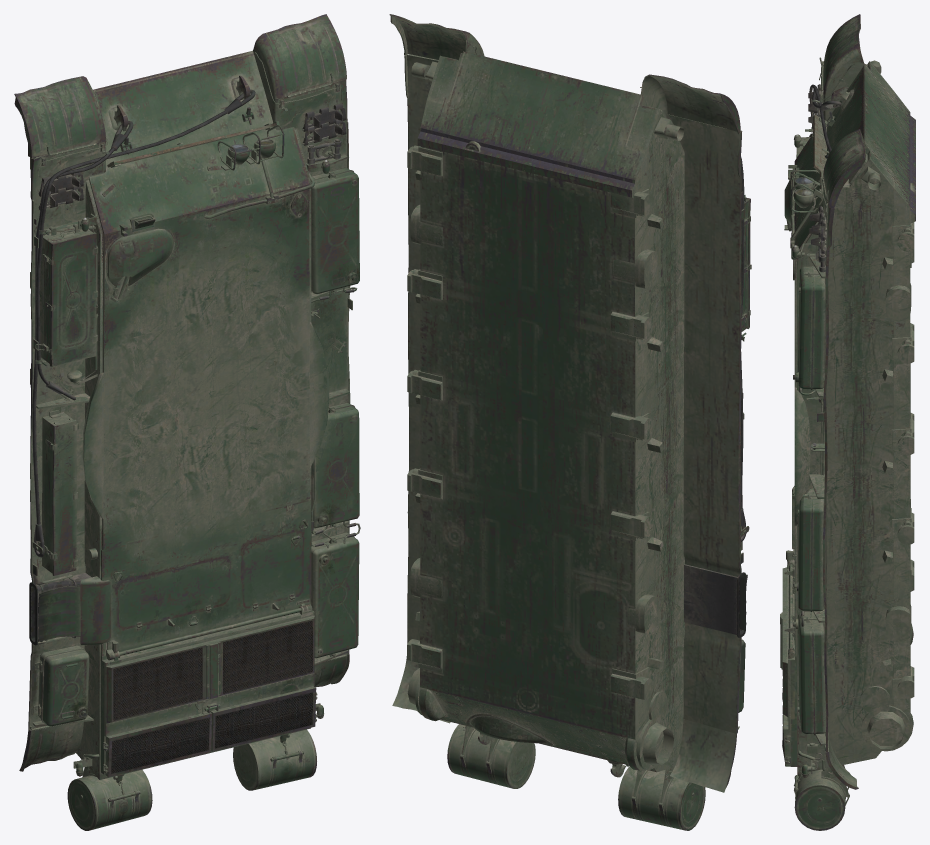
Rendered from Hull.glb.
3 views of the same model, side by side, from view 1: azimuth 30°, elevation 25°; view 2: azimuth 150°, elevation 25°; view 3: azimuth 270°, elevation 25° (orthographic). The views are drawn at different scales.
Visible parts, largest first — view 1: set_0_group_0; view 2: set_0_group_0; view 3: set_0_group_0.
Boxes of the visible parts, x1,y1,x2,y2 form: set_0_group_0: [14, 14, 360, 830]; set_0_group_0: [389, 14, 751, 830]; set_0_group_0: [780, 14, 915, 830].
Bounding box in the file's own units: 2.84 × 6.23 × 1.1.
1 material, 1 textured.
